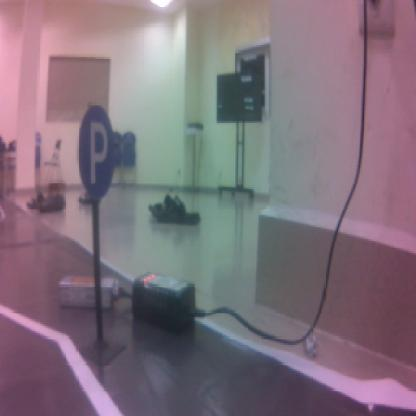chair: (78, 107, 115, 198)
